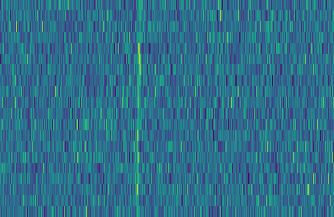signal: (132, 0, 144, 217)
